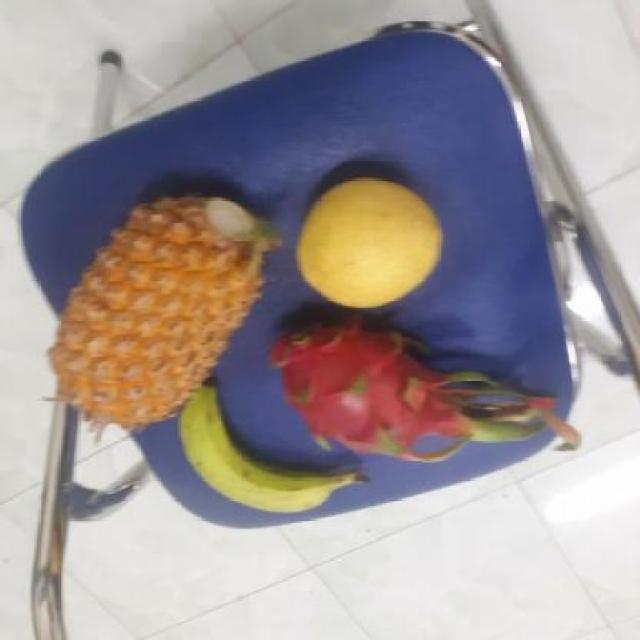banana: (171, 382, 349, 516)
dragon fruit: (264, 311, 475, 462)
guava: (290, 175, 444, 306)
pineapple: (47, 196, 268, 422)
